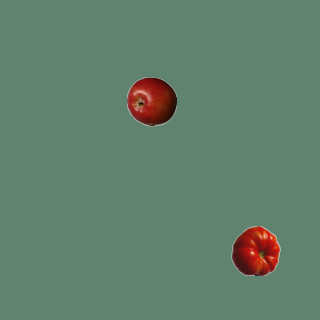Apple Braeburn: (126, 76, 176, 126)
Tomato 3: (230, 225, 280, 275)
